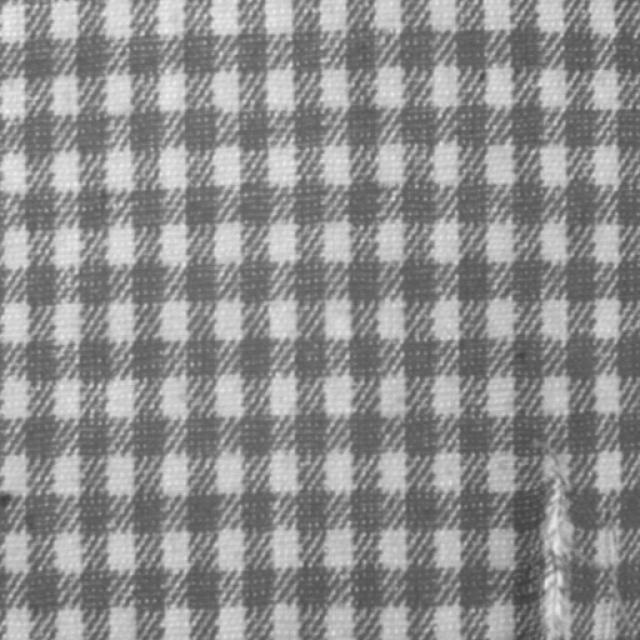Hole-Defect: (539, 456, 574, 639)
